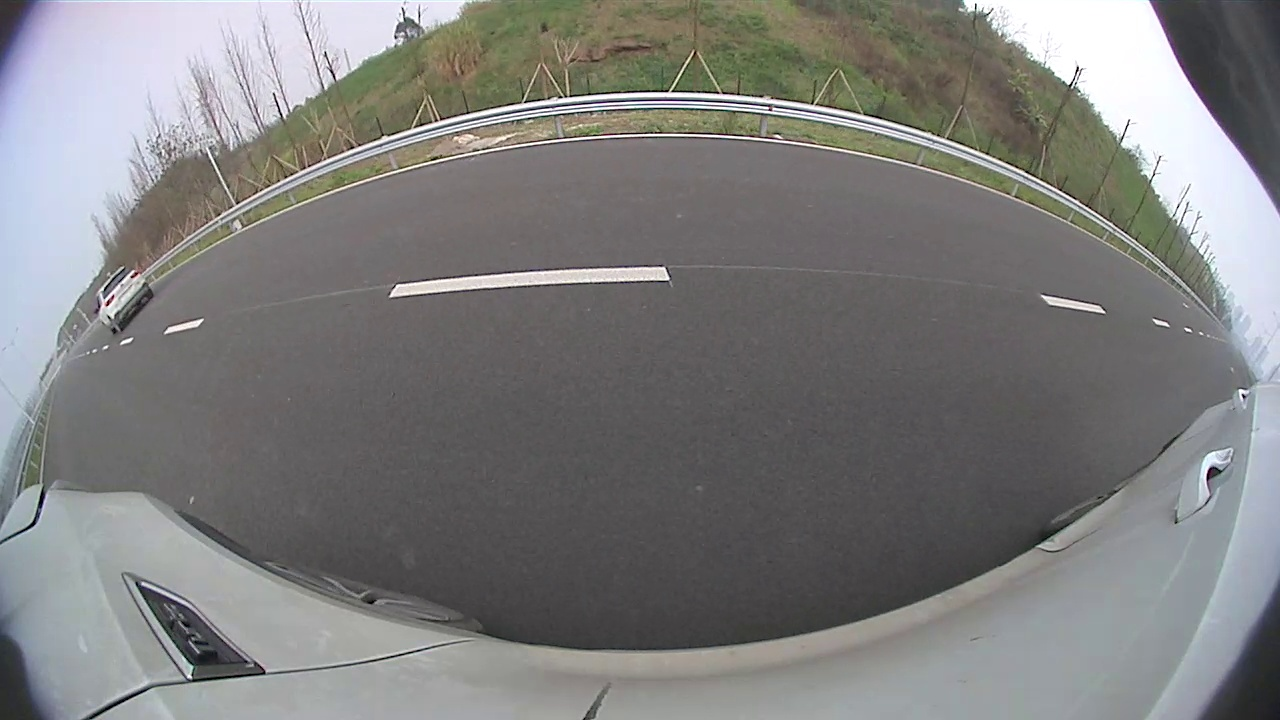car: (94, 266, 153, 334)
